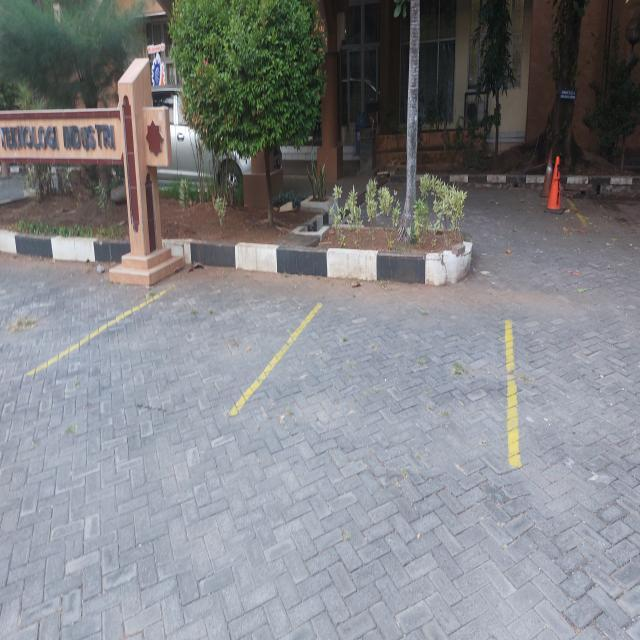Vacant: (231, 298, 514, 453), (31, 291, 319, 412)
